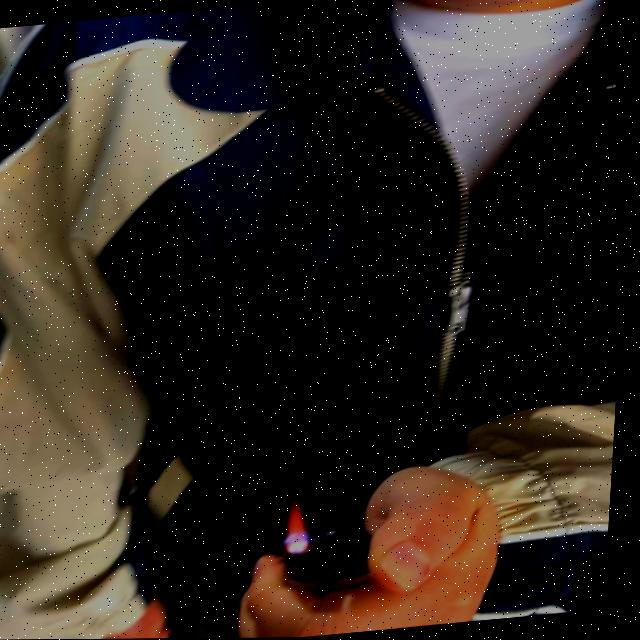Fire: (282, 496, 321, 554)
